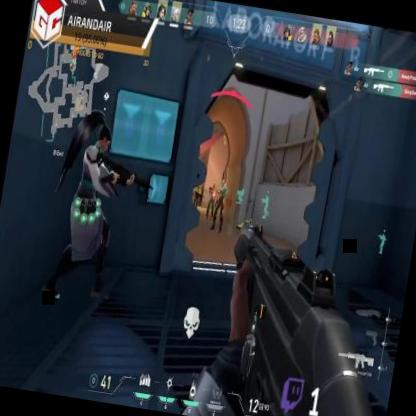enemy: (209, 178, 229, 234), (204, 181, 217, 220), (188, 180, 201, 213)
enemy_head: (220, 179, 225, 188), (212, 182, 216, 188), (196, 180, 199, 186)
